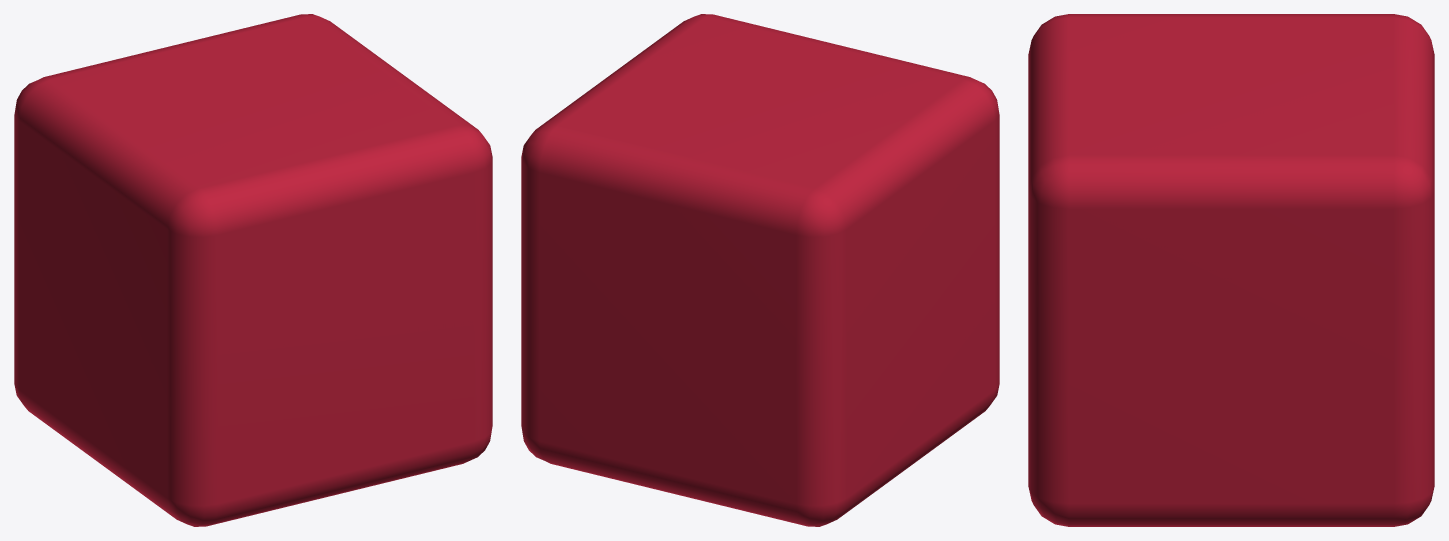
Rendered from ludo.glb.
3 renders of one model, left to right at view 1: azimuth 30°, elevation 25°; view 2: azimuth 150°, elevation 25°; view 3: azimuth 270°, elevation 25°, orthographic. The views are drawn at different scales.
Visible parts, largest first — view 1: pCube1; view 2: pCube1; view 3: pCube1.
Part boxes in pixels (<box>): pCube1: <box>14,14,492,526</box>; pCube1: <box>521,14,999,526</box>; pCube1: <box>1028,14,1434,526</box>.
Size of the model in its own units: 35 by 35 by 35.
